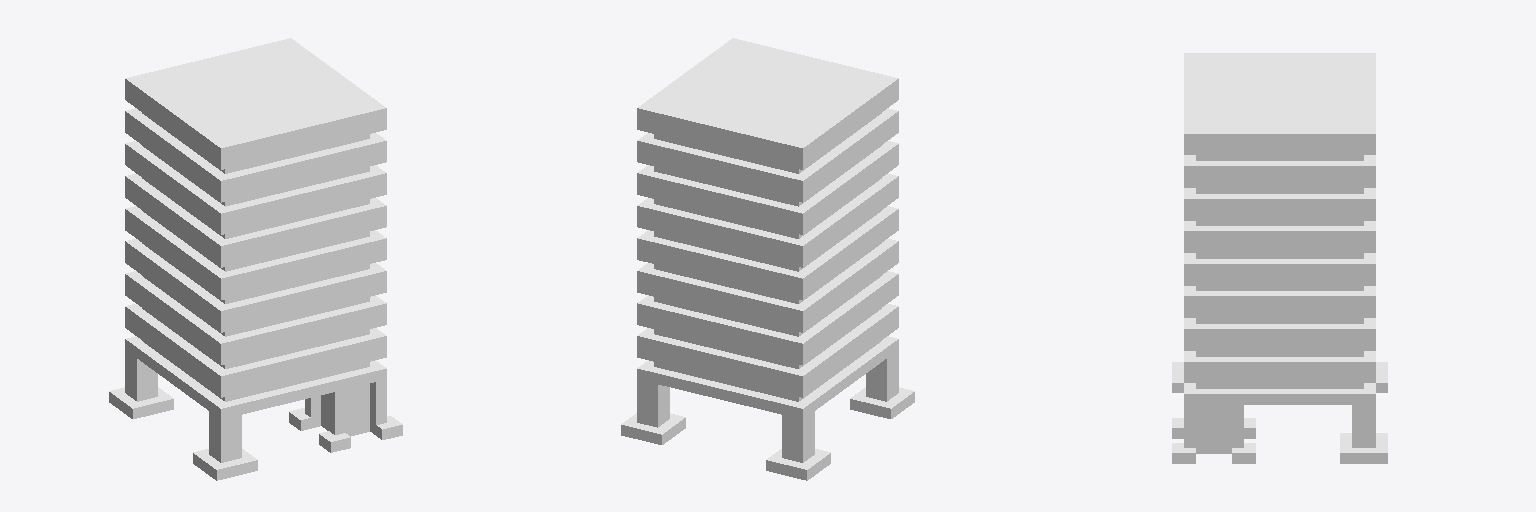
Rendered from building2.vox.obj.
3 renders of one model, left to right at view 1: azimuth 30°, elevation 25°; view 2: azimuth 150°, elevation 25°; view 3: azimuth 270°, elevation 25°, orthographic.
Parts seen in each view (by area): view 1: object 1; view 2: object 1; view 3: object 1.
Part boxes in pixels (x1,y1,x2,y2): object 1: (109,38,402,480); object 1: (621,38,914,480); object 1: (1172,53,1387,463).
Bounding box in the file's own units: 1.8 × 3 × 1.8.